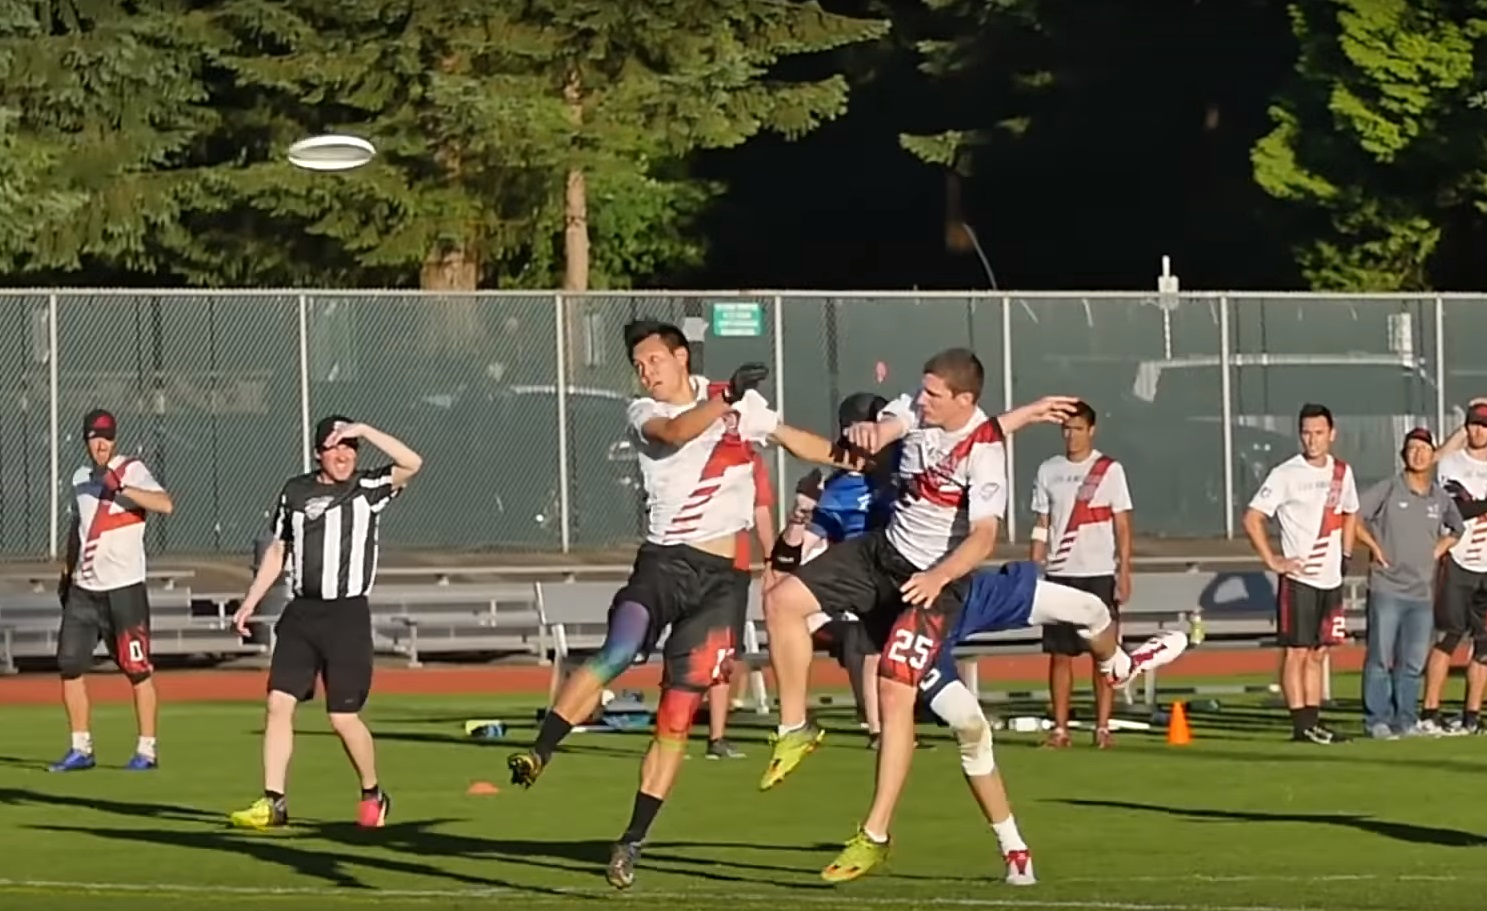frisbee: (287, 133, 377, 171)
